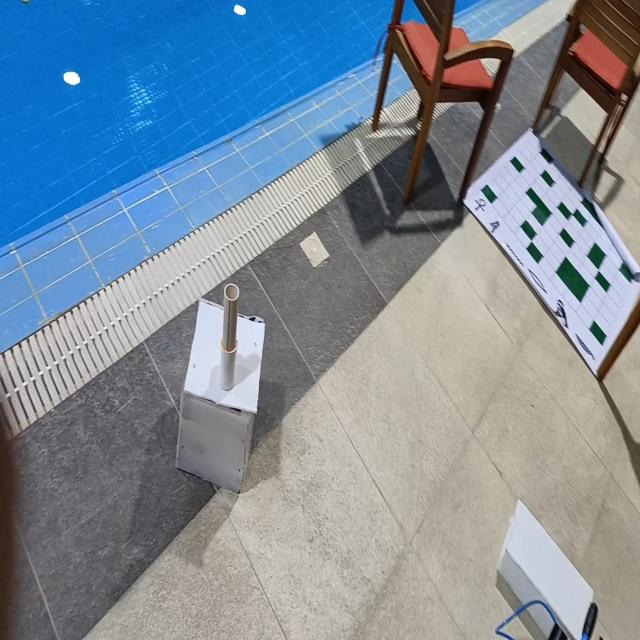Cube: (174, 295, 266, 494)
Cuboid: (496, 497, 595, 638)
